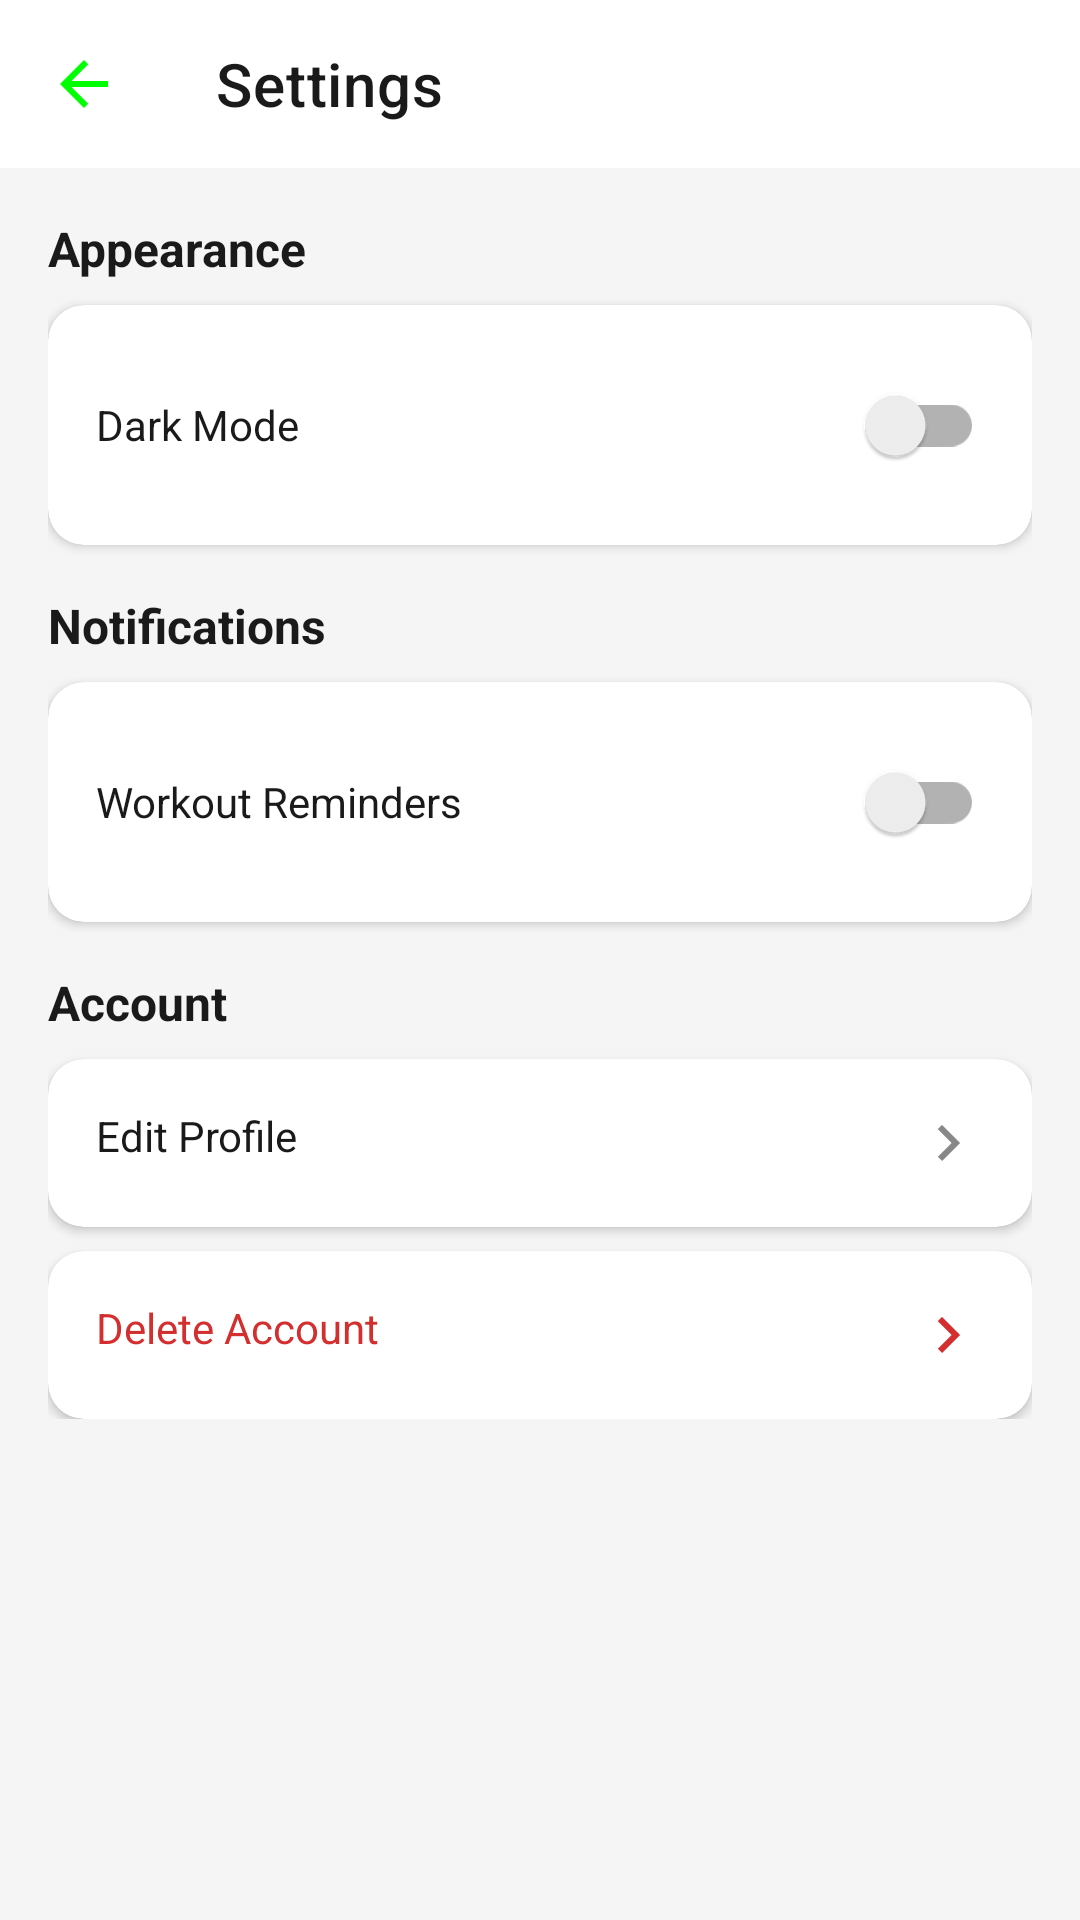

Icon bounding boxes for this 1080px x 1920px phone screenshot, format {"x1": x1, "y1": y1, "x2": x2, "y2": y2}:
arrow right: {"x1": 938, "y1": 1125, "x2": 960, "y2": 1161}, {"x1": 938, "y1": 1317, "x2": 960, "y2": 1353}
